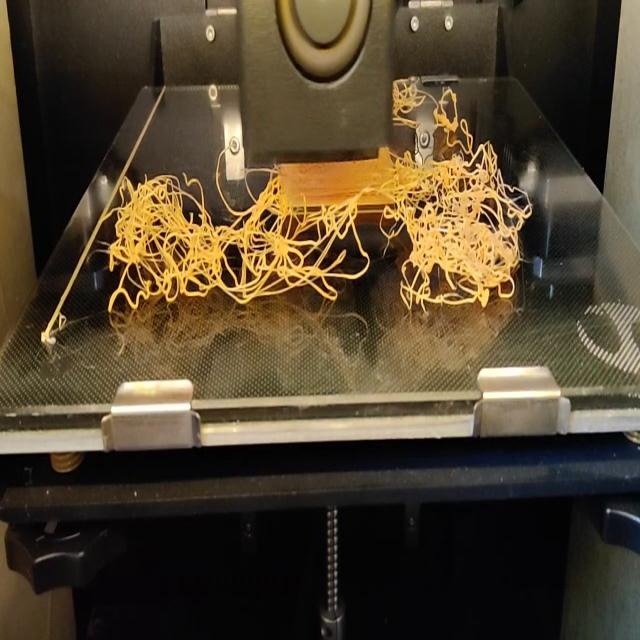spaghetti: (100, 162, 534, 319), (392, 73, 500, 163)
